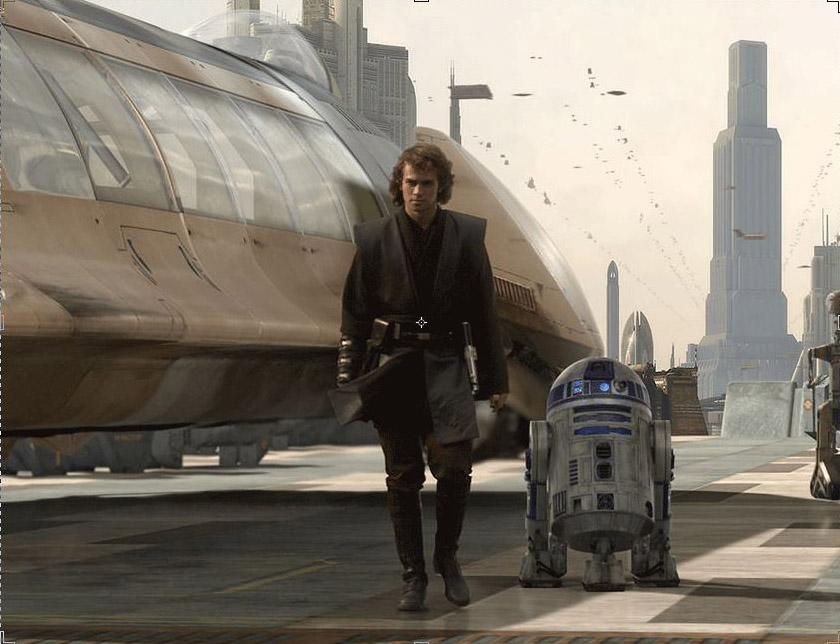r2d2: (517, 356, 681, 591)
